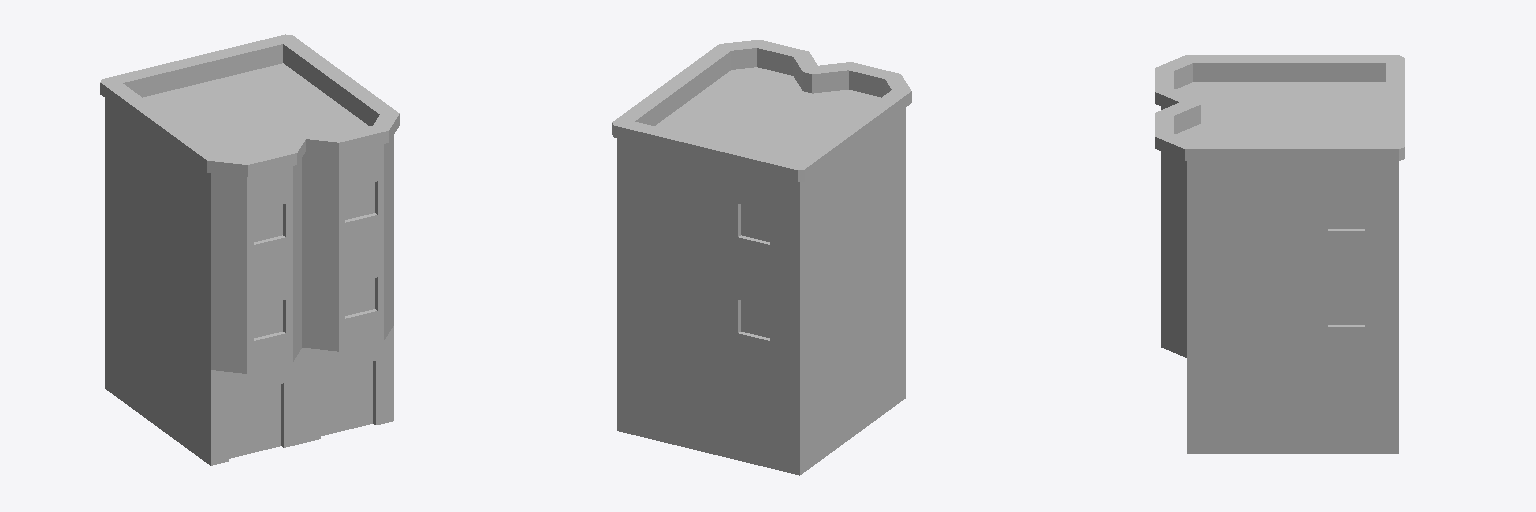
The model's file is variant_25.obj.
The picture shows the model from 3 angles: view 1: azimuth 30°, elevation 25°; view 2: azimuth 150°, elevation 25°; view 3: azimuth 270°, elevation 25°; orthographic projection.
Parts seen in each view (by area): view 1: small_buildingA; view 2: small_buildingA; view 3: small_buildingA.
Part boxes in pixels (x1,y1,x2,y2): small_buildingA: (100,34,399,465); small_buildingA: (612,40,911,475); small_buildingA: (1155,55,1404,453).
Bounding box in the file's own units: 0.84 × 1.28 × 0.94.